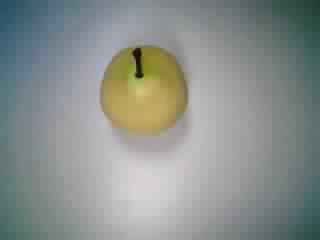pear: (88, 41, 198, 147)
